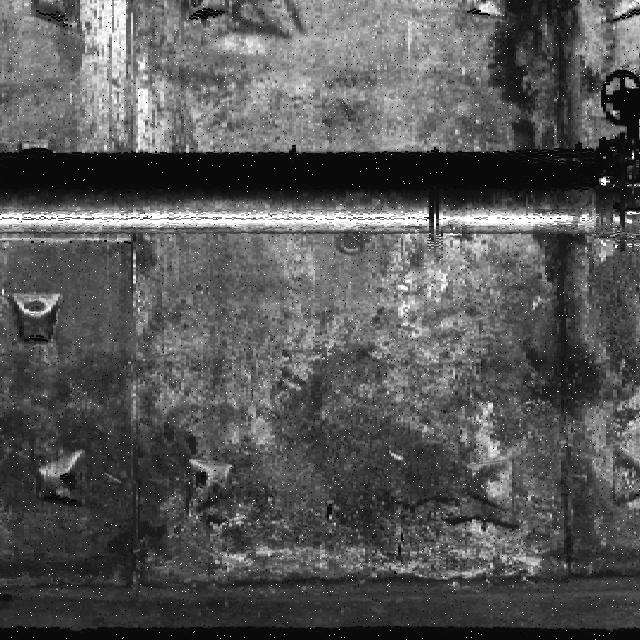leakage: (521, 233, 607, 475), (495, 1, 620, 165)
